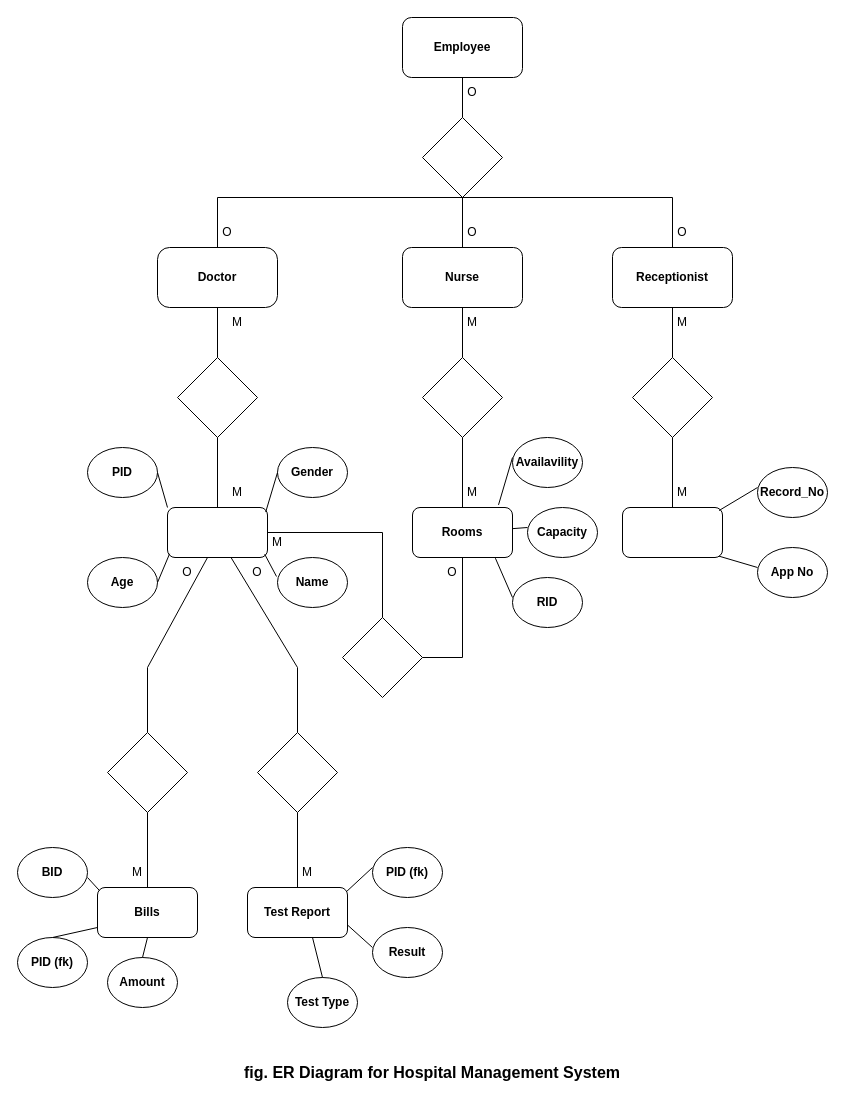
The diagram is 845 pixels wide and 1105 high, and some of its shapes have lost their labels. Here are the shapes that lost their labels. From the top down, the centre of each, then its label:
At [462,157]: "is a".
At [217,397]: "Consults".
At [462,397]: "Governs".
At [672,397]: "Maintains".
At [217,532]: "Patient".
At [672,532]: "Records".
At [382,657]: "Assigned".
At [147,772]: "Pays".
At [297,772]: "Has".
